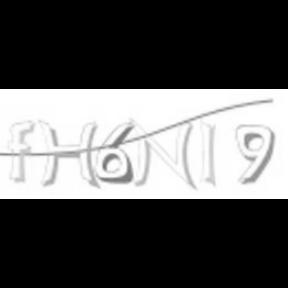6: (94, 119, 136, 186)
9: (234, 122, 276, 188)
H: (36, 118, 100, 190)
I: (196, 118, 220, 188)
N: (128, 116, 198, 192)
f: (4, 117, 38, 185)
